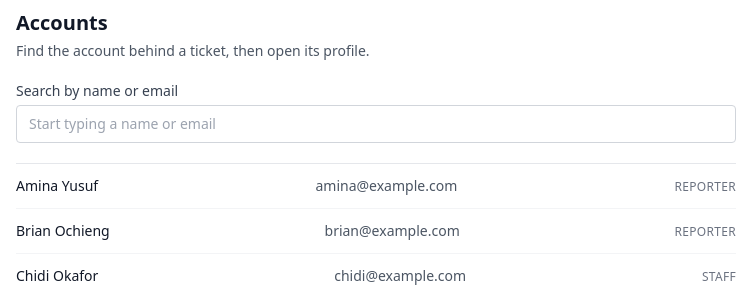
Scenario: AccountDirectoryPage › AD-003: narrows as the staff member types, with one request per pause
Expected: the text "Amina Yusuf" is shown, [16,176,98,196]
Type "a" into the field labelled "Search by name or email". click: (376, 124)
box: [16,105,736,143]
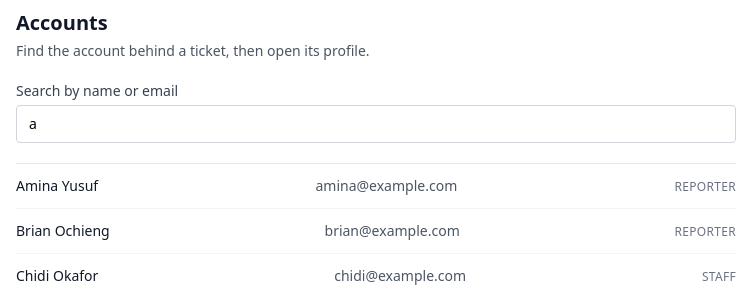
Replace the text in the field labelled "Search by name or email" with "am". click: (376, 124)
box: [16,105,736,143]
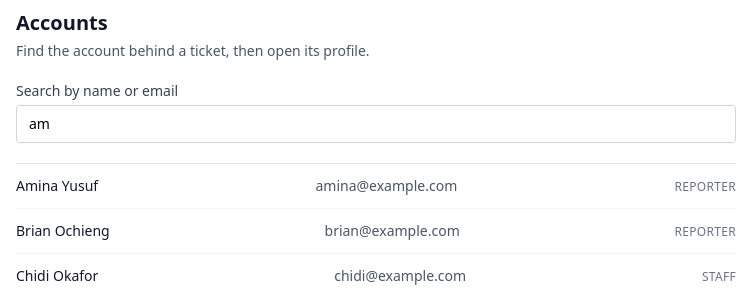
Replace the text in the field labelled "Search by name or email" with "ami". click: (376, 124)
box: [16,105,736,143]
Wait 300 ms
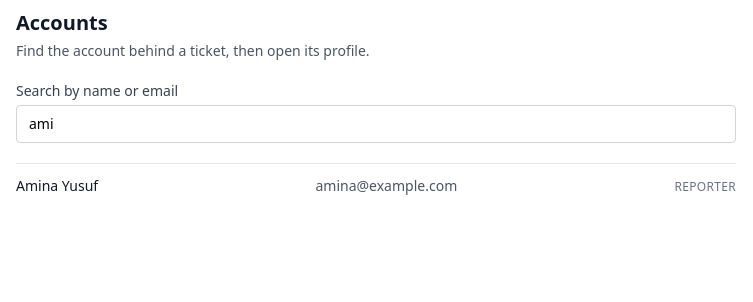
Now the link "Brian Ochieng" is gone
